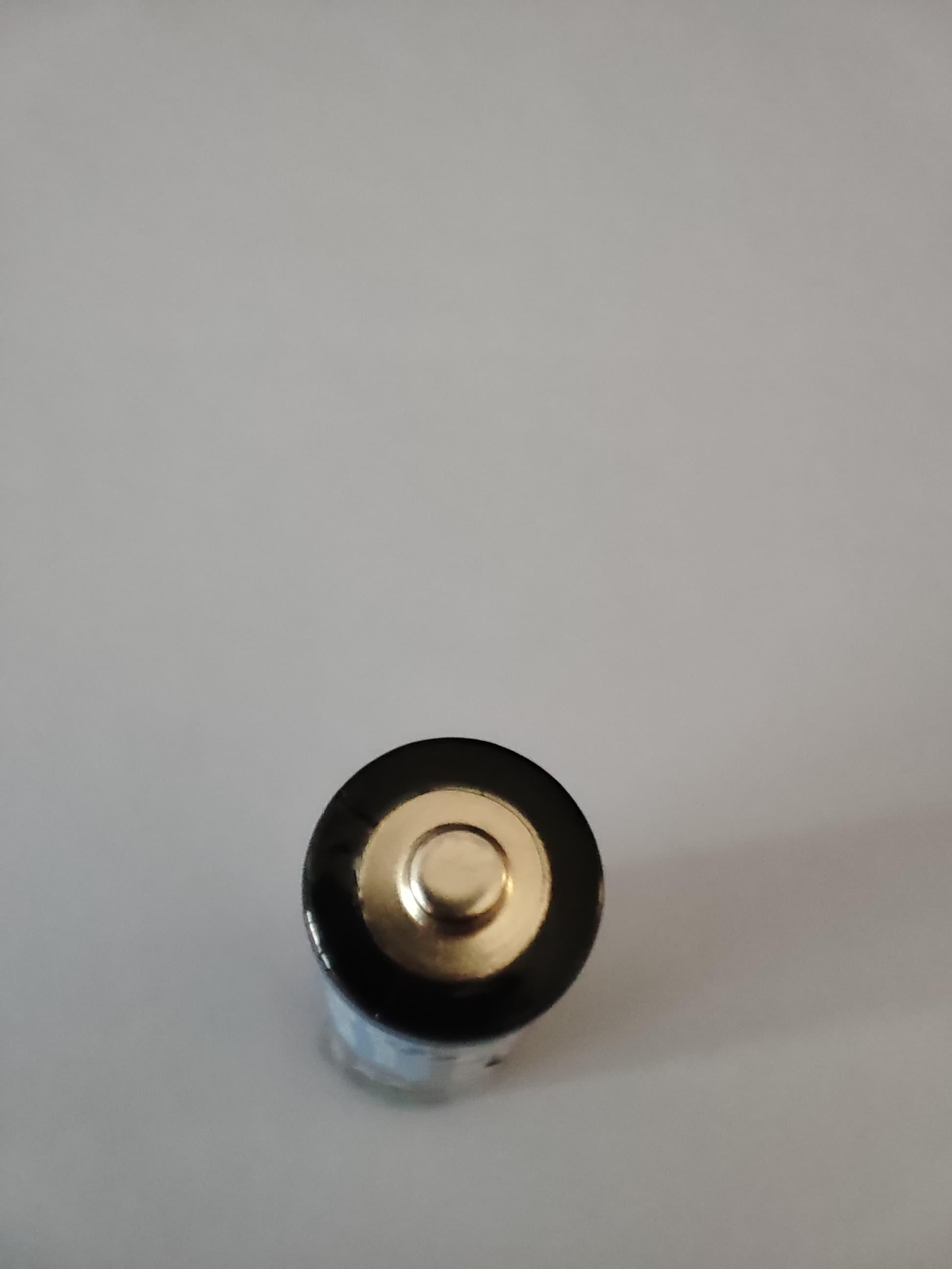AA: (299, 733, 606, 1101)
